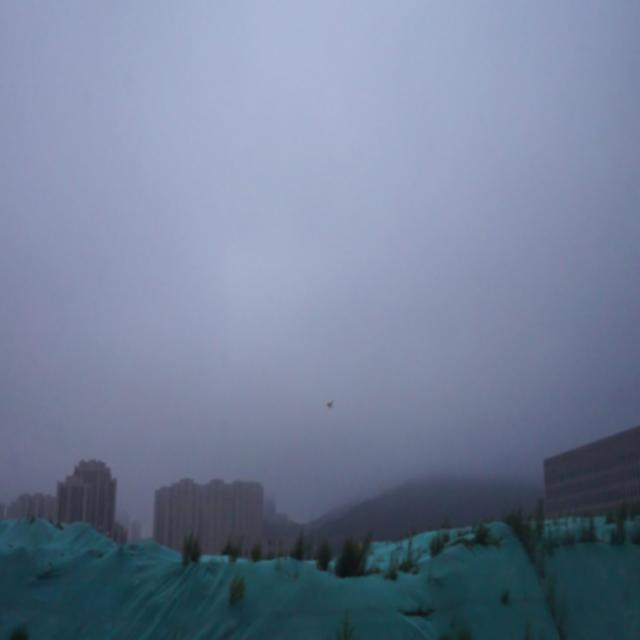UAV: (326, 399, 334, 408)
